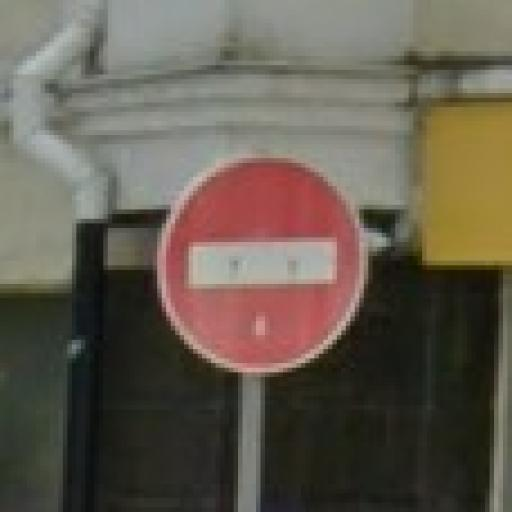traffic_sign: (158, 150, 369, 378)
